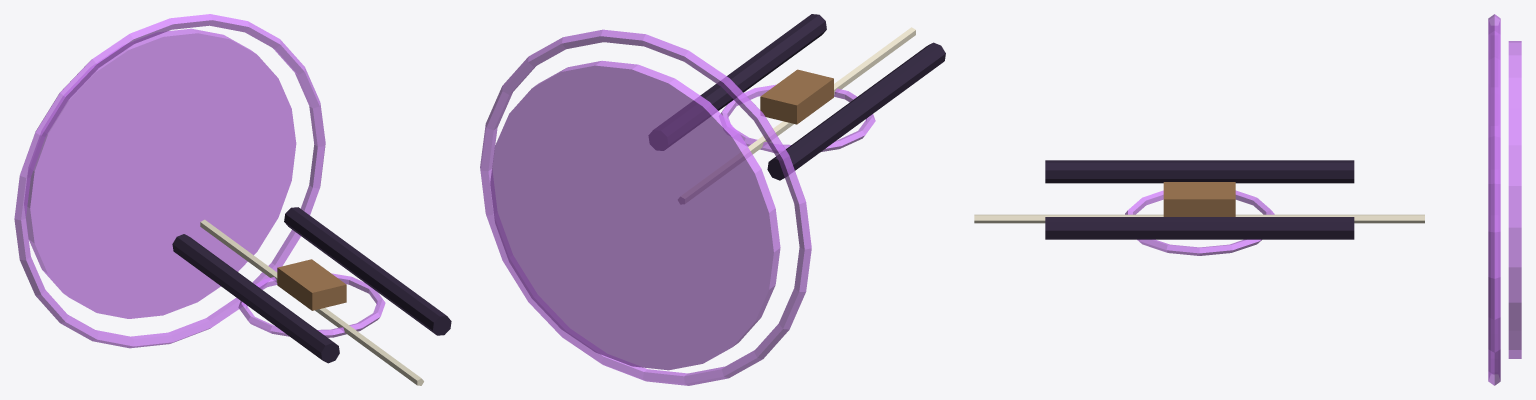
The model's file is weapon_pickup_arcane_bow_epic.glb.
3 views of the same model, side by side, from view 1: azimuth 30°, elevation 25°; view 2: azimuth 150°, elevation 25°; view 3: azimuth 270°, elevation 25° (orthographic). The views are drawn at different scales.
Parts seen in each view (by area): view 1: rarity_base_disc, rarity_orbit_ring, bow_lower, bow_upper, grip, string, arcane_string_ring; view 2: rarity_base_disc, rarity_orbit_ring, bow_lower, bow_upper, grip, string, arcane_string_ring; view 3: bow_upper, bow_lower, rarity_orbit_ring, rarity_base_disc, grip, string, arcane_string_ring.
Part boxes in pixels (box(x1,y1,x2,y2)): rarity_base_disc: box(24, 28, 296, 318); rarity_orbit_ring: box(14, 14, 325, 348); bow_lower: box(284, 207, 451, 335); bow_upper: box(172, 234, 339, 363); grip: box(277, 259, 346, 310); string: box(200, 219, 423, 385); arcane_string_ring: box(238, 273, 385, 337); rarity_base_disc: box(490, 60, 780, 370); rarity_orbit_ring: box(480, 29, 811, 385); bow_lower: box(649, 14, 826, 150); bow_upper: box(767, 42, 945, 180); grip: box(760, 69, 833, 124); string: box(678, 27, 915, 203); arcane_string_ring: box(719, 84, 875, 152); bow_upper: box(1045, 160, 1354, 183); bow_lower: box(1045, 217, 1354, 239); rarity_orbit_ring: box(1488, 14, 1500, 385); rarity_base_disc: box(1508, 41, 1521, 358); grip: box(1163, 182, 1235, 216); string: box(974, 214, 1424, 223); arcane_string_ring: box(1125, 190, 1274, 255).
Size of the model in its own units: 1.45 by 1.45 by 2.12.
